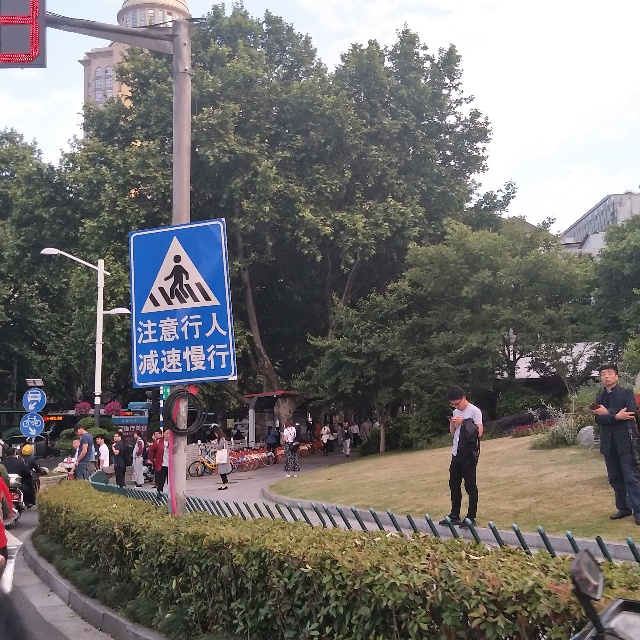crosswalk: (136, 233, 221, 321)
